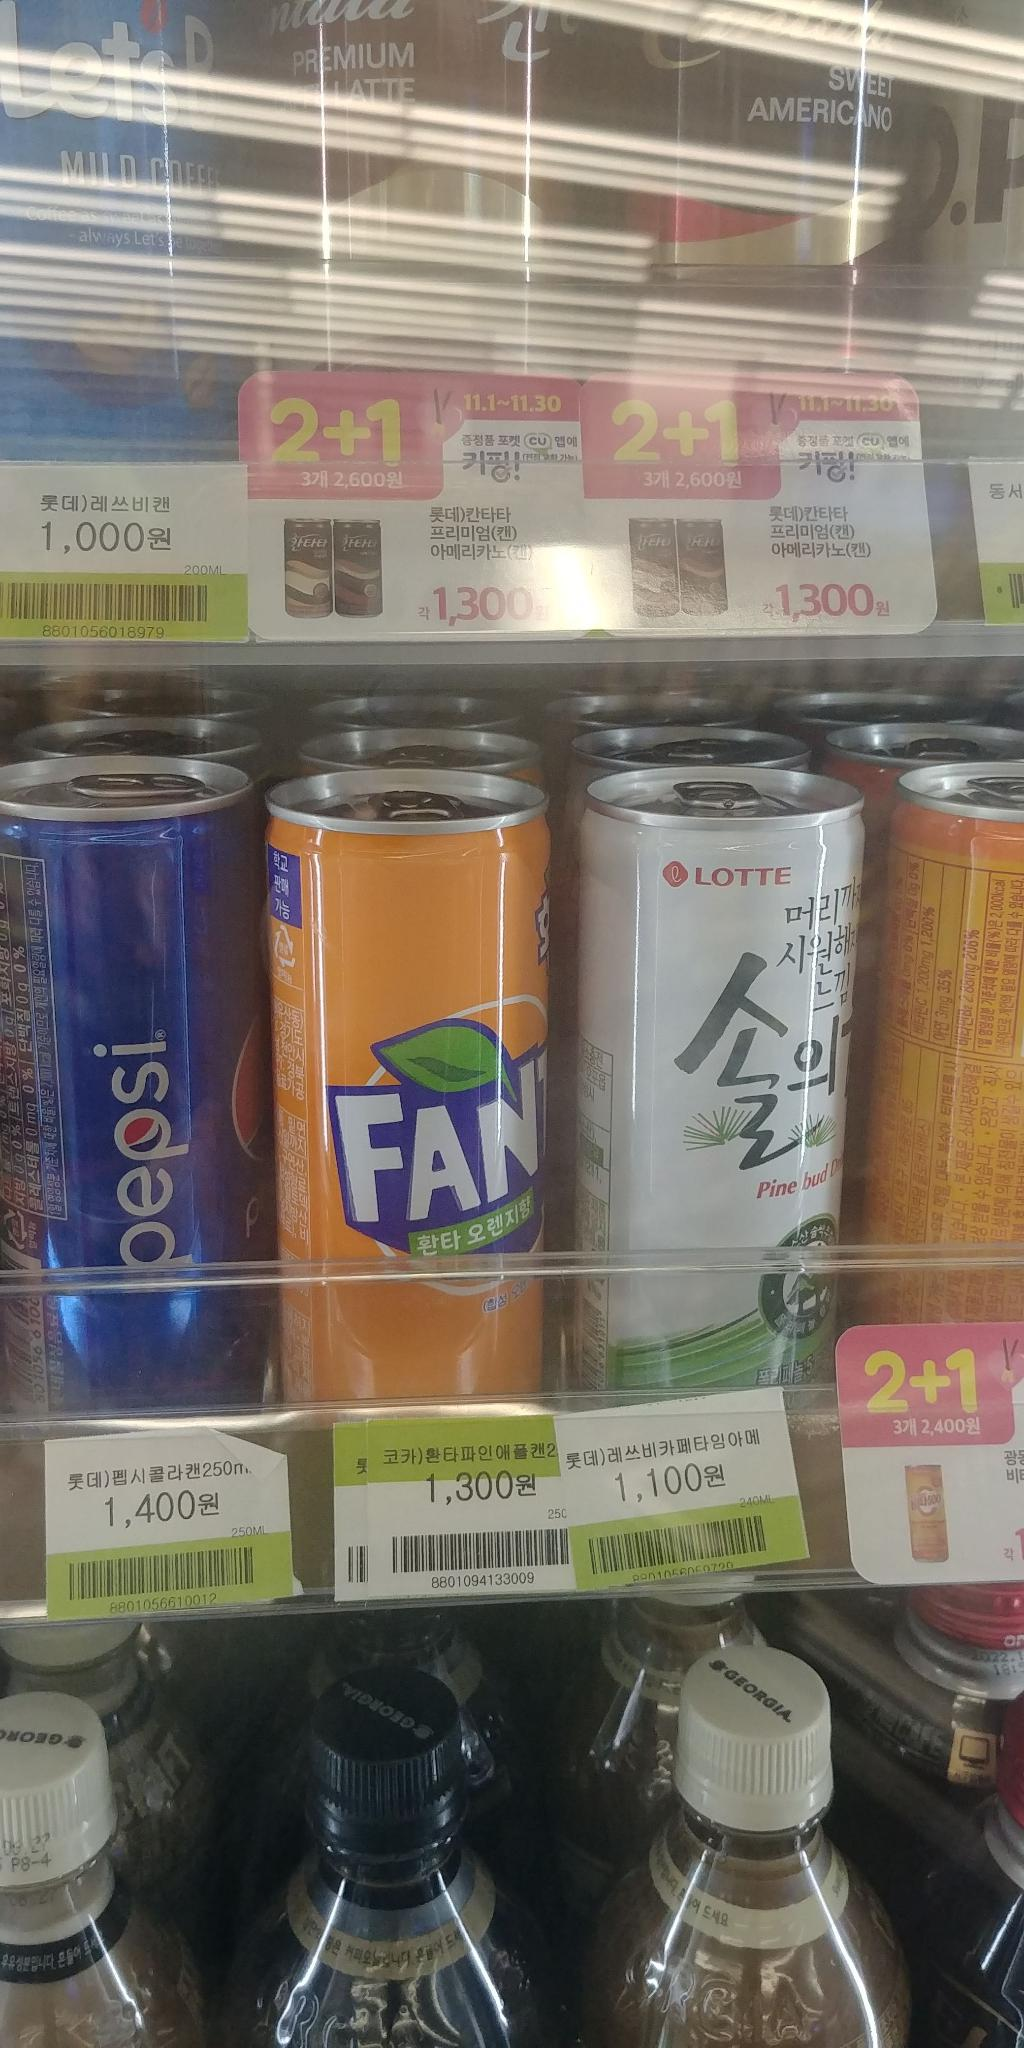letsbe: (0, 0, 253, 475)
